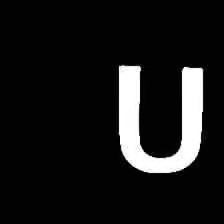LTR_U: (105, 52, 208, 180)
